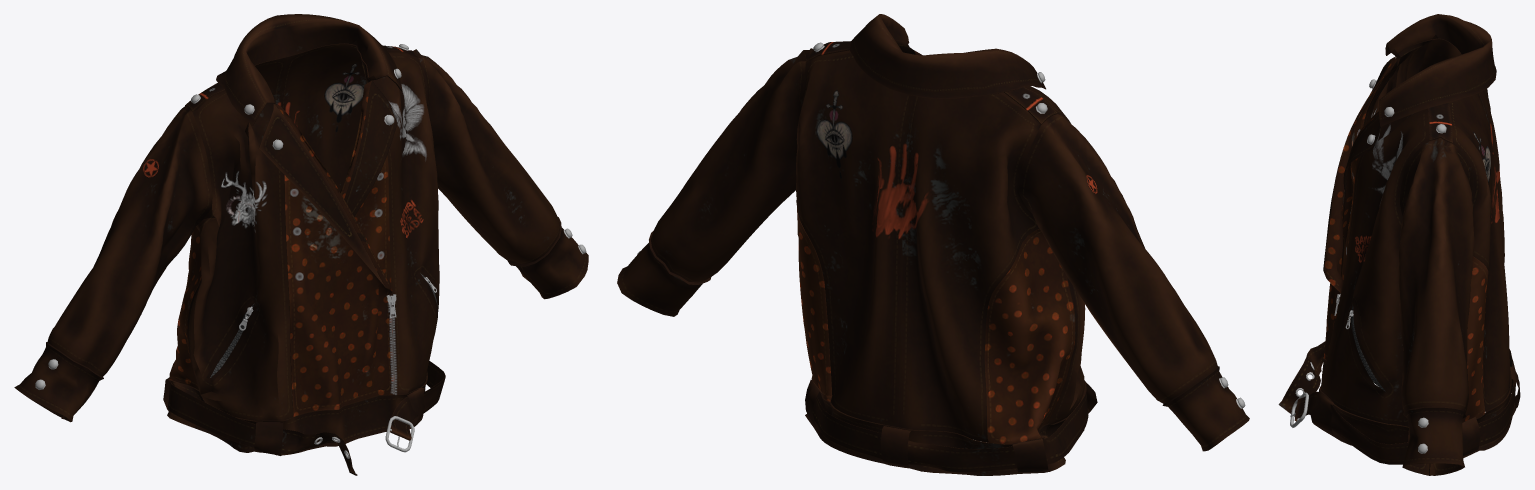
The model's file is leather-jacket.glb.
The picture shows the model from 3 angles, left to right: view 1: azimuth 30°, elevation 25°; view 2: azimuth 150°, elevation 25°; view 3: azimuth 270°, elevation 25°; orthographic projection. The views are drawn at different scales.
Visible parts, largest first — view 1: source_mesh_3, source_mesh_2, source_mesh_7; view 2: source_mesh_3, source_mesh_2; view 3: source_mesh_3, source_mesh_2, source_mesh_7, source_mesh_1.
Part boxes in pixels (x1,y1,x2,y2): source_mesh_3: (14, 14, 588, 475); source_mesh_2: (22, 39, 561, 422); source_mesh_7: (35, 115, 586, 458); source_mesh_3: (617, 14, 1249, 475); source_mesh_2: (649, 39, 1223, 444); source_mesh_3: (1278, 14, 1520, 475); source_mesh_2: (1320, 34, 1511, 475); source_mesh_7: (1290, 134, 1428, 453); source_mesh_1: (1351, 304, 1385, 391).
Size of the model in its own units: 3.06 by 2 by 1.13.
Materials: 3 (2 with a texture image).
